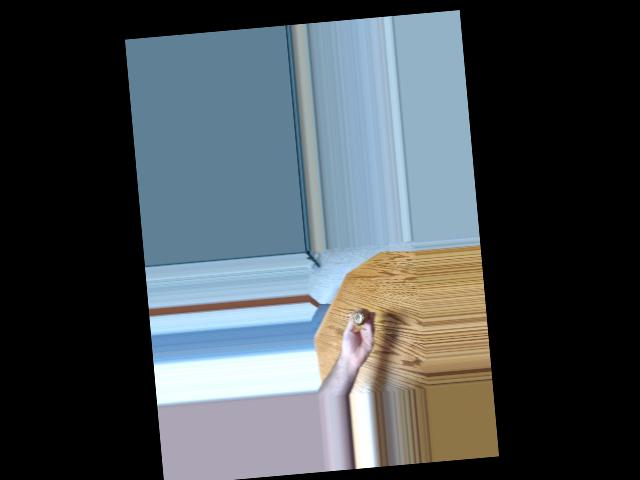sweet_potato: (348, 304, 366, 325)
